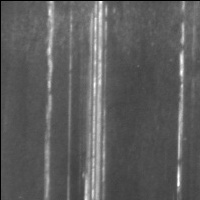scratches: (73, 3, 113, 200), (39, 4, 61, 200), (171, 17, 187, 191)
